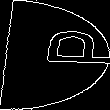P_W: (5, 35, 105, 75)
